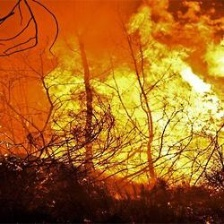fire: (39, 6, 224, 189)
